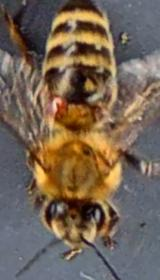varroa_mite: (42, 86, 72, 117)
